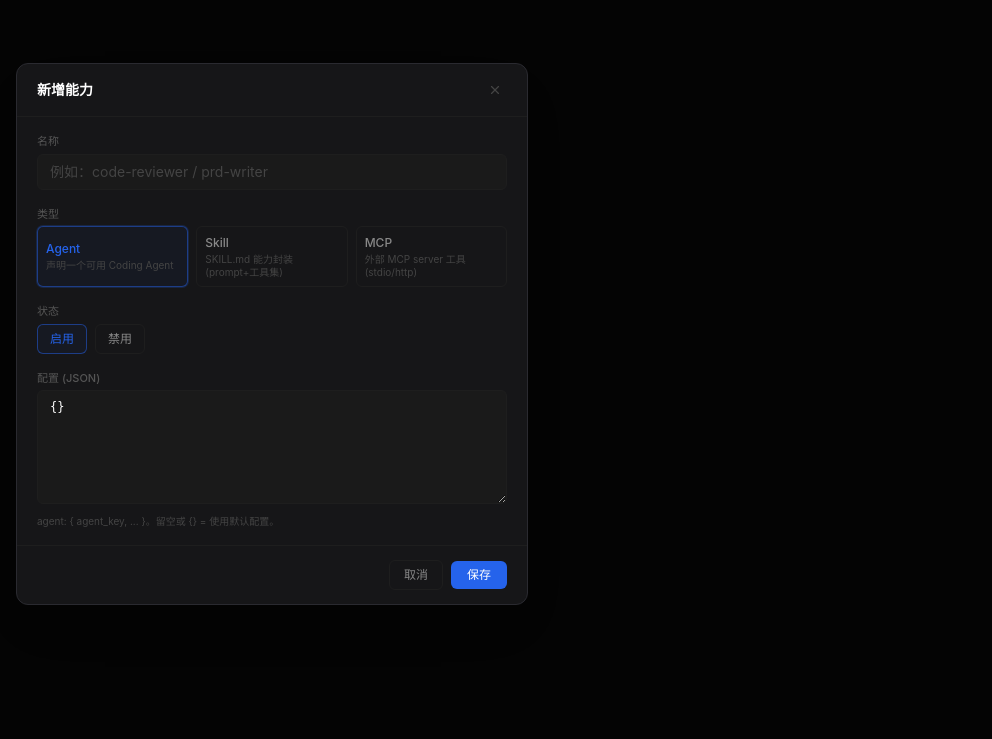
Test case: CapabilityEditorModal — C3 skill 多来源 › validates inline skill requires content
The width and height of the screenshot is (992, 739).
Click the text "Skill": (217, 242) [205,235,229,250]
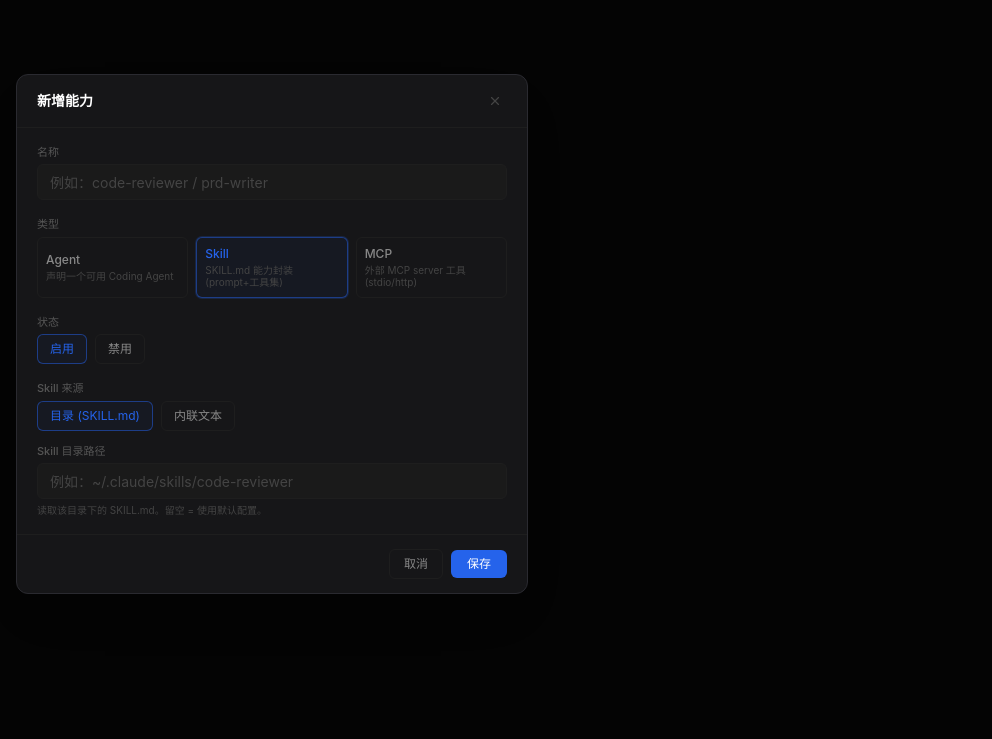
Click the button "内联文本": (198, 416) [161,401,235,431]
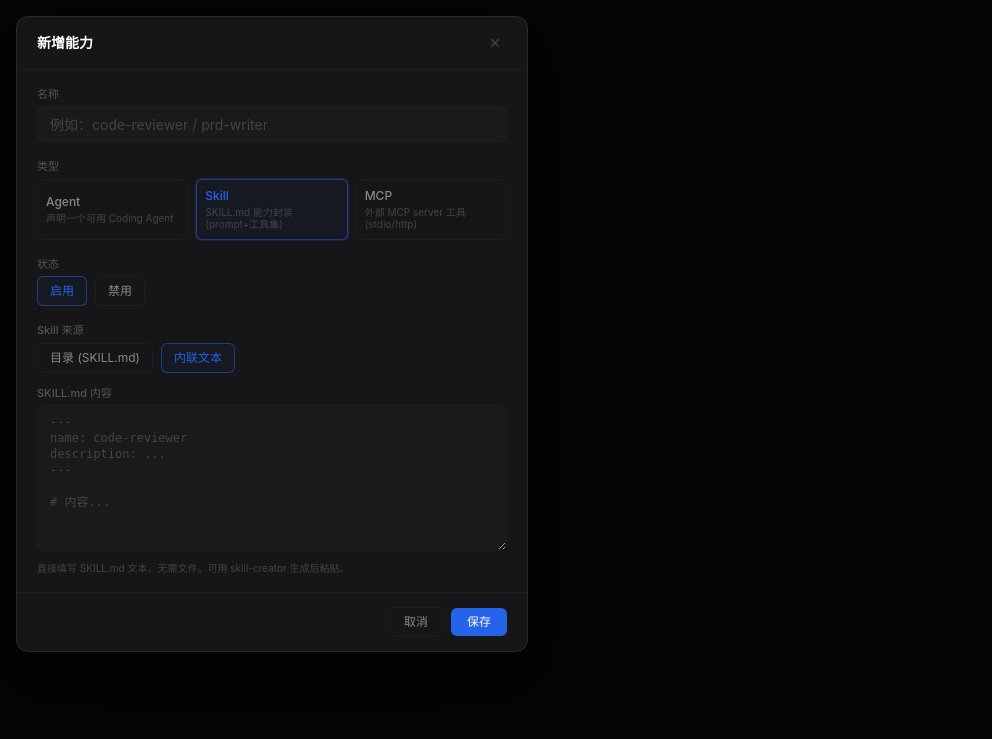
In the field with placeholder "例如：code-reviewer / prd-writer": (272, 124) [37,106,507,142], type "my-skill"
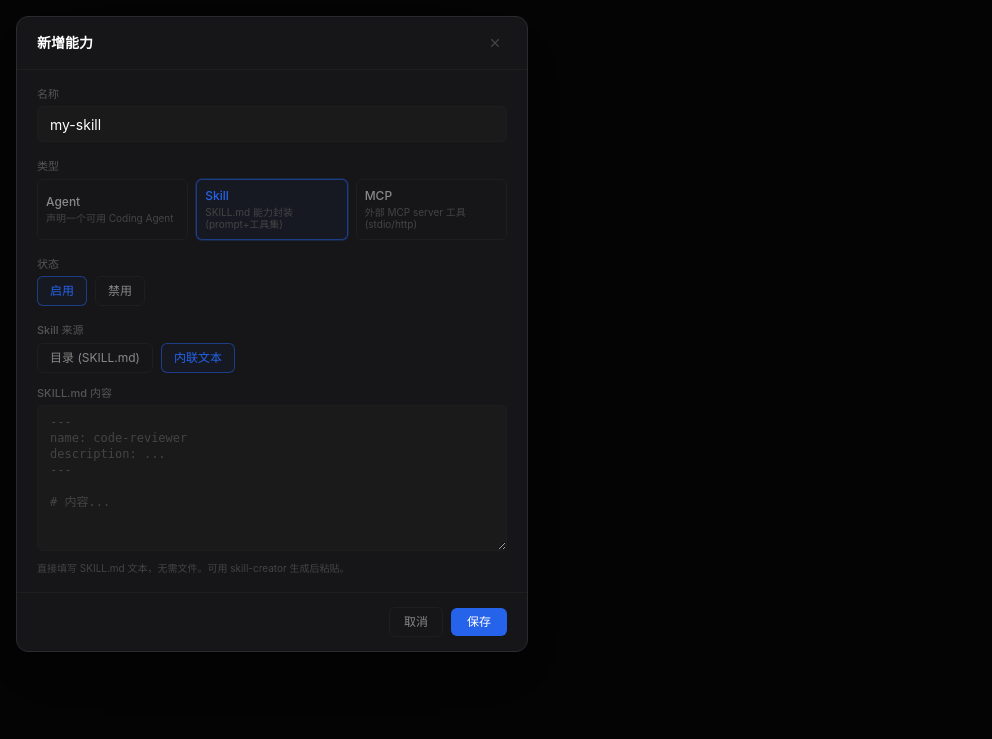
Click the button "保存": (479, 622) [451,608,507,636]
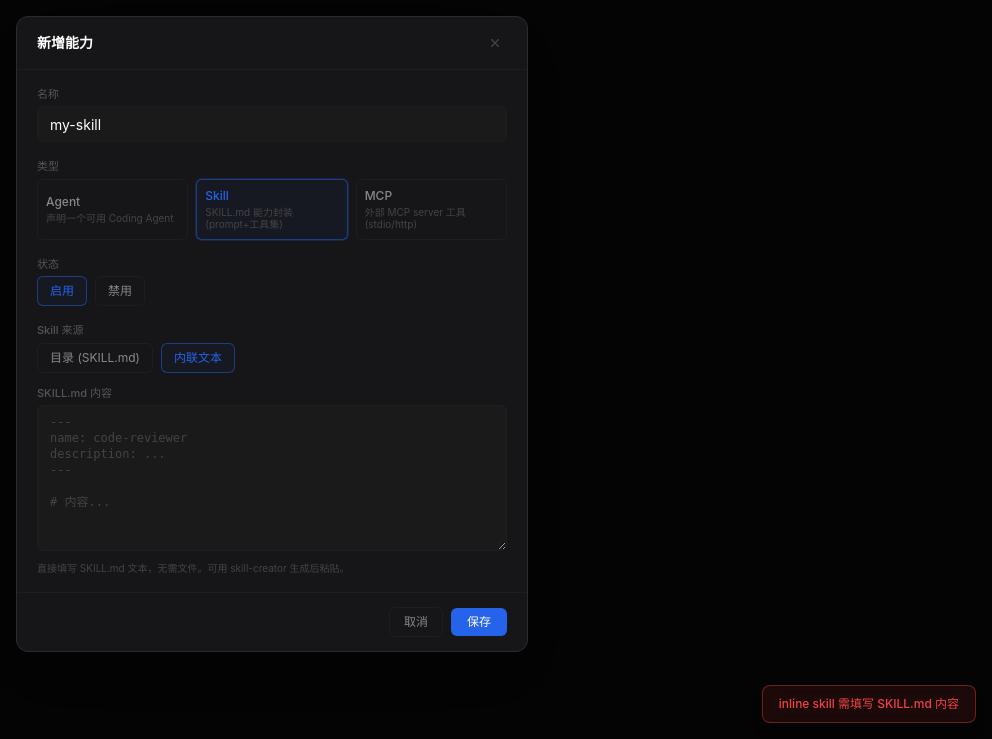
Result: the text "inline skill 需填写 SKILL.md 内容" is shown at [762,685,976,723]
